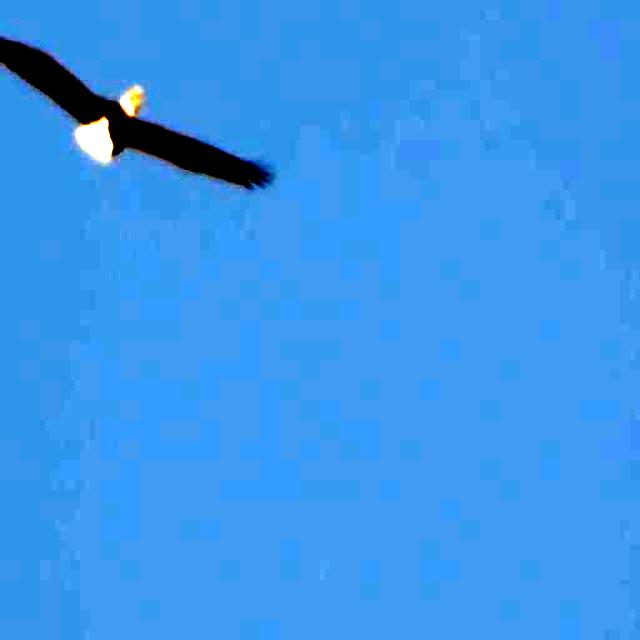airplane: (0, 14, 268, 194)
